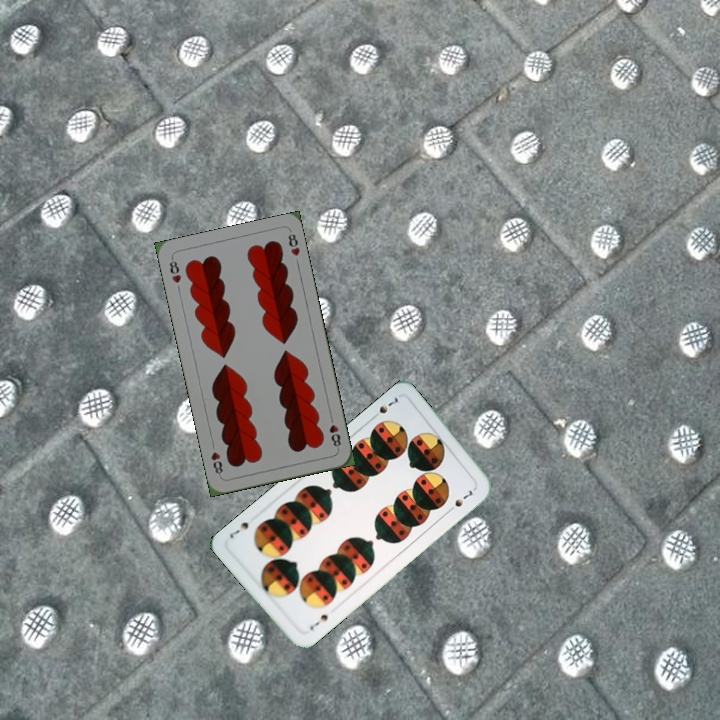H8: (325, 412, 343, 452), (165, 254, 184, 286)
S7: (367, 392, 400, 422), (306, 610, 330, 633)
